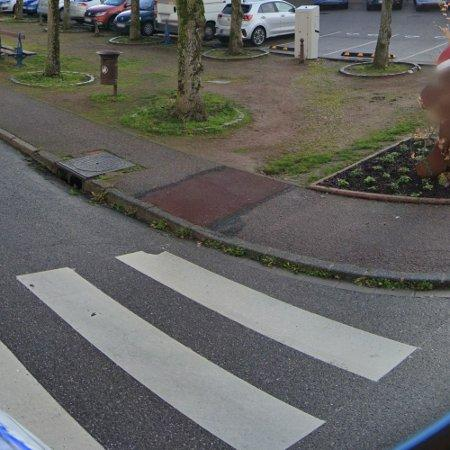crosswalks: (0, 248, 423, 450)
